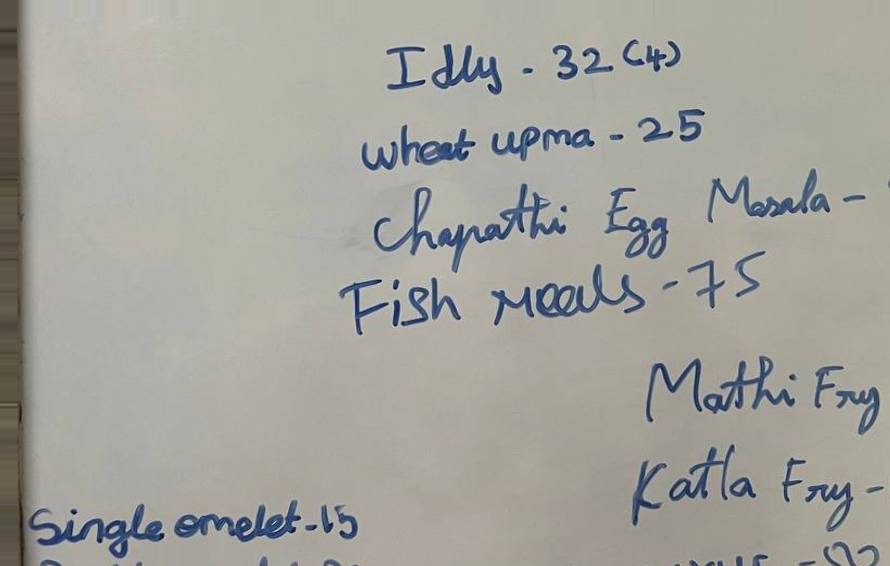chapathi egg masala - 93: (372, 174, 827, 250)
fish Meals - 75: (336, 251, 772, 348)
idly(4) - 32: (377, 33, 683, 94)
katla fry - 60: (628, 446, 890, 530)
mathi fry - 50: (637, 353, 890, 434)
single omelet - 15: (28, 495, 374, 553)
wheat upma - 25: (358, 108, 709, 172)
